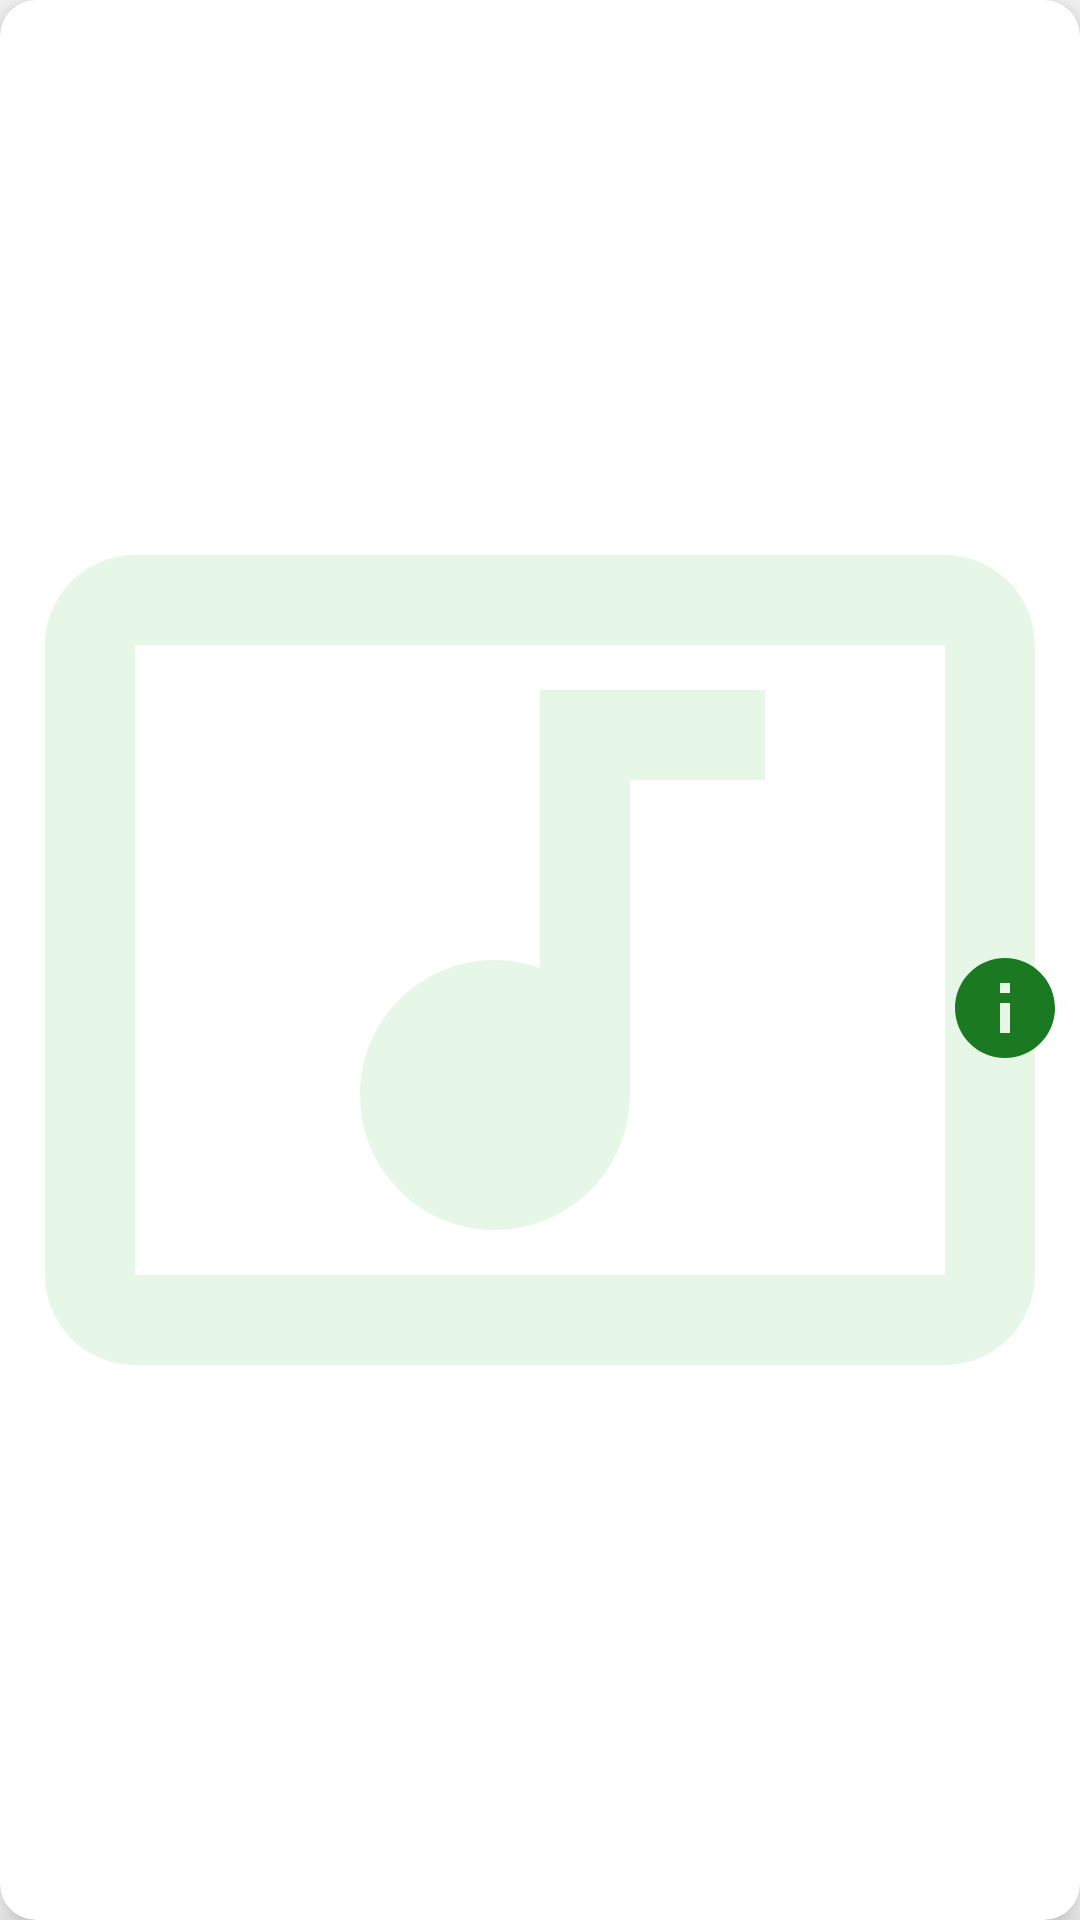

Locate icon controls on the screen. Image size 1080×1920, boxes as (x1, y1, x2, y2).
imga info: (955, 958, 1055, 1058)
